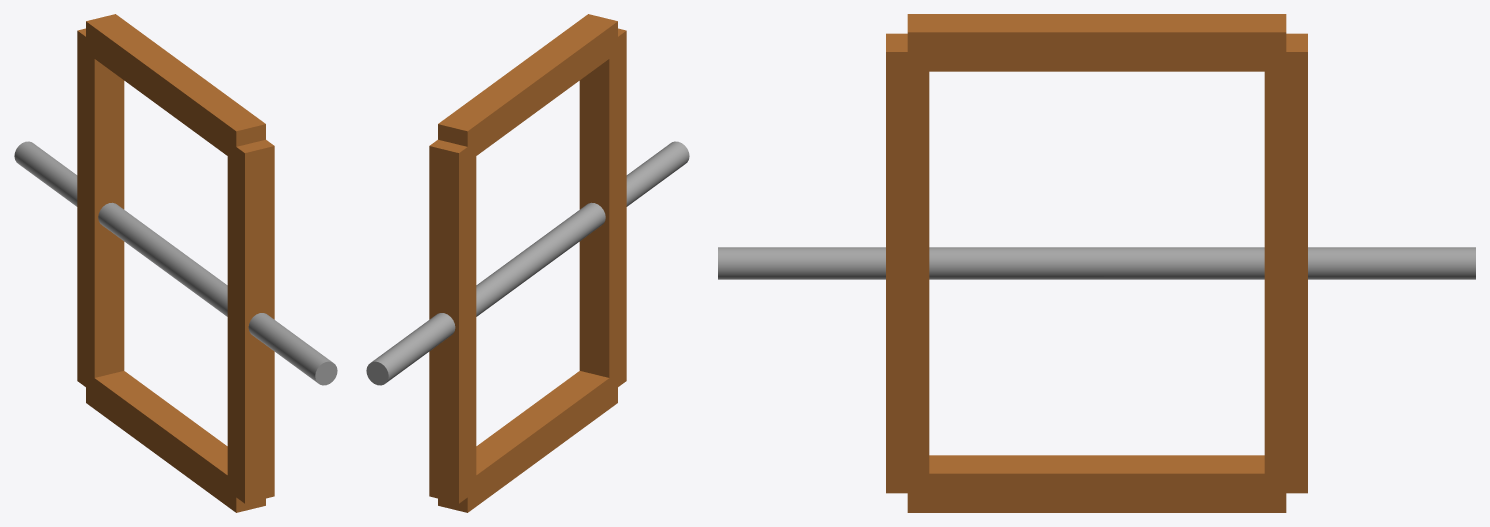
File: dc_coil_only.glb
3 renders of one model, left to right at view 1: azimuth 30°, elevation 25°; view 2: azimuth 150°, elevation 25°; view 3: azimuth 270°, elevation 25°, orthographic. The views are drawn at different scales.
Size of the model in its own units: 0.12 by 1.47 by 2.1.
